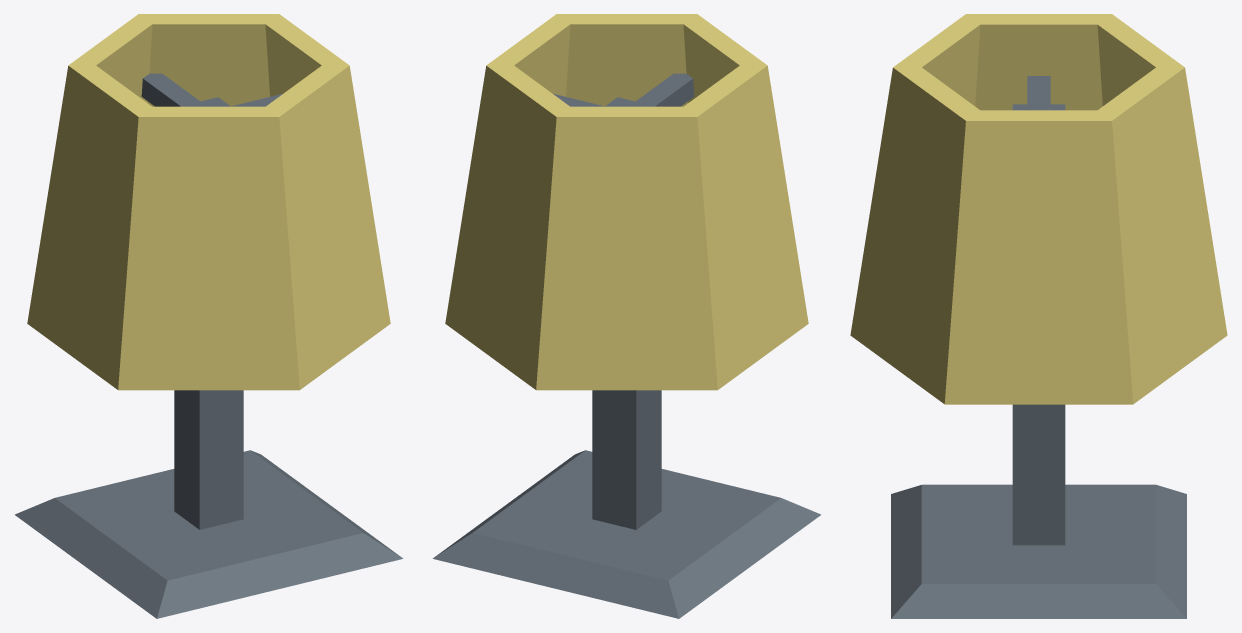
Rendered from lampRoundTable.fbx.
3 views of the same model, side by side, from view 1: azimuth 30°, elevation 25°; view 2: azimuth 150°, elevation 25°; view 3: azimuth 270°, elevation 25° (orthographic). The views are drawn at different scales.
Visible parts, largest first — view 1: Cylinder, Cube, Cube.001, Cube.002; view 2: Cylinder, Cube, Cube.001, Cube.002; view 3: Cylinder, Cube, Cube.001, Cube.002.
Boxes of the visible parts, <box> form: Cylinder: <box>27,14,390,390</box>; Cube: <box>15,450,403,618</box>; Cube.001: <box>174,97,243,529</box>; Cube.002: <box>141,73,282,106</box>; Cylinder: <box>445,14,808,390</box>; Cube: <box>432,450,820,618</box>; Cube.001: <box>592,97,661,529</box>; Cube.002: <box>553,73,694,106</box>; Cylinder: <box>850,14,1227,404</box>; Cube: <box>891,484,1186,618</box>; Cube.001: <box>1012,104,1065,545</box>; Cube.002: <box>1027,76,1050,104</box>.
Bounding box in the file's own units: 221 × 365 × 255.
